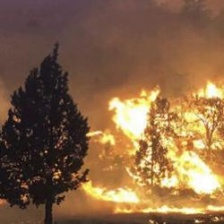fire: (79, 89, 224, 217)
